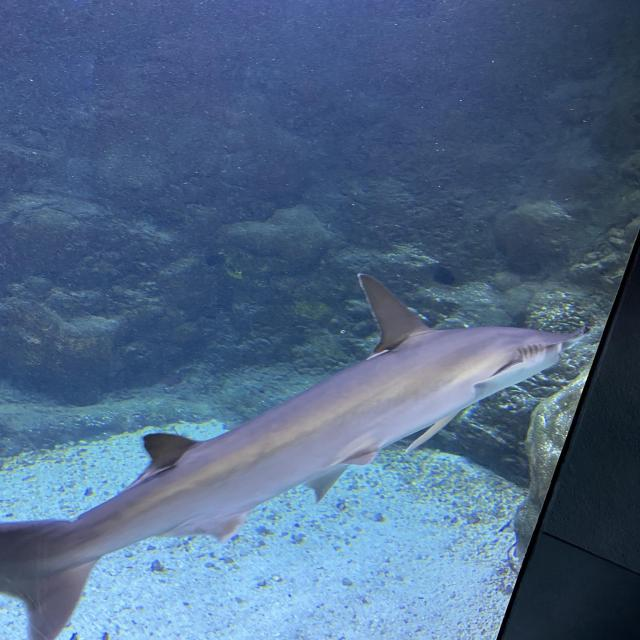shark: (0, 273, 589, 640)
